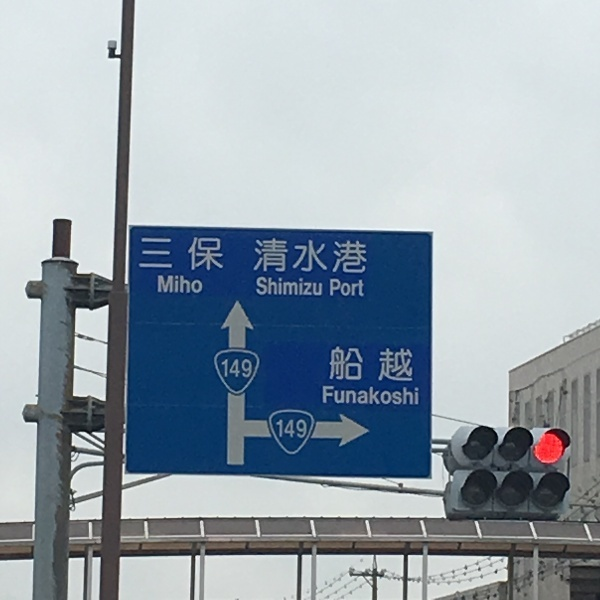text: (145, 236, 160, 275), (161, 236, 176, 275), (177, 236, 192, 275), (193, 236, 208, 275), (209, 236, 224, 275), (225, 236, 240, 275), (241, 236, 256, 275), (257, 236, 272, 275), (273, 236, 288, 275), (289, 236, 304, 275), (305, 236, 320, 275), (321, 236, 336, 275), (337, 236, 352, 275), (353, 236, 367, 275), (337, 346, 352, 382), (353, 346, 368, 382), (369, 346, 384, 382), (385, 346, 400, 382), (401, 346, 413, 382), (257, 276, 272, 297), (273, 276, 288, 297), (289, 276, 304, 297), (305, 276, 320, 297), (337, 385, 352, 405), (353, 385, 368, 405), (369, 385, 384, 405), (385, 385, 400, 405), (401, 385, 416, 405), (161, 275, 176, 294), (177, 275, 192, 294), (337, 278, 352, 297), (225, 359, 240, 378), (289, 420, 304, 439), (322, 385, 336, 405), (329, 346, 336, 382), (138, 236, 144, 275), (353, 278, 365, 297), (241, 359, 252, 378), (277, 420, 288, 439), (193, 275, 203, 294), (330, 278, 336, 297), (305, 420, 308, 439), (321, 276, 323, 297), (417, 385, 419, 405), (158, 275, 160, 294), (222, 359, 224, 378)
